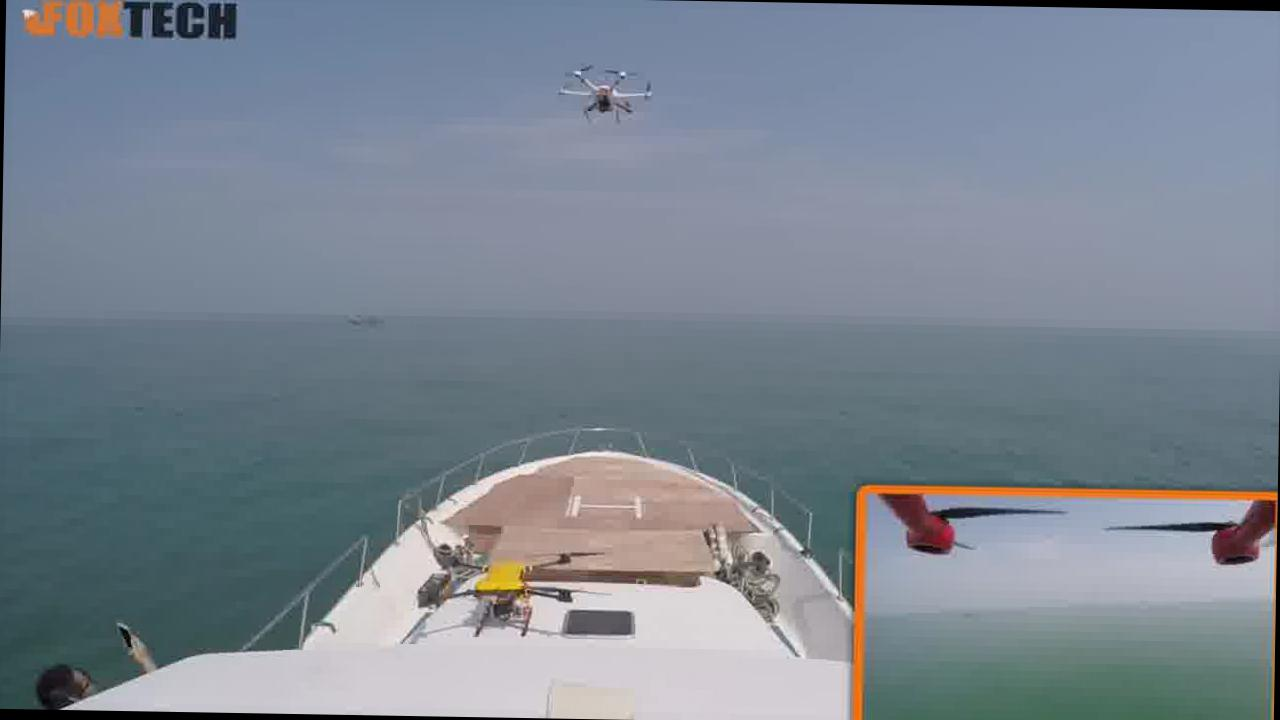drone: (552, 57, 656, 127)
